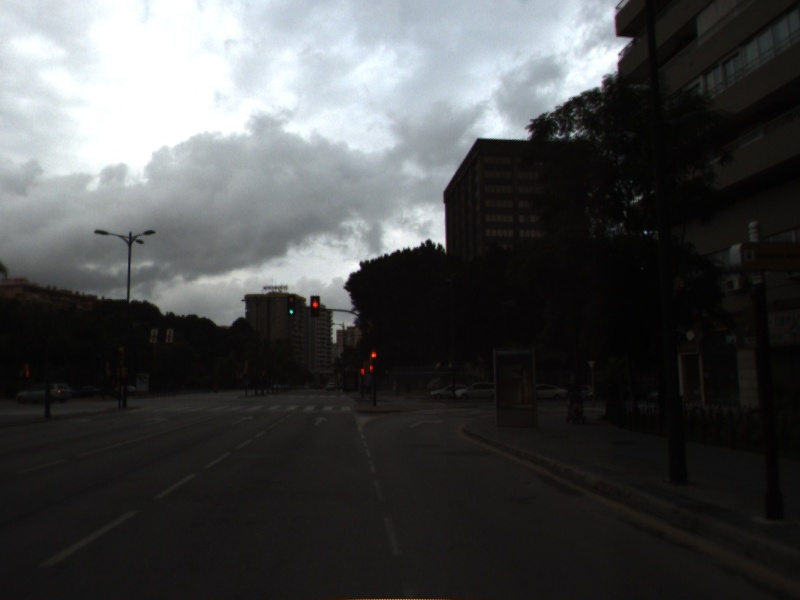RIGHT: (407, 417, 446, 430)
STRAIGHT: (229, 414, 255, 426), (309, 414, 331, 428)
